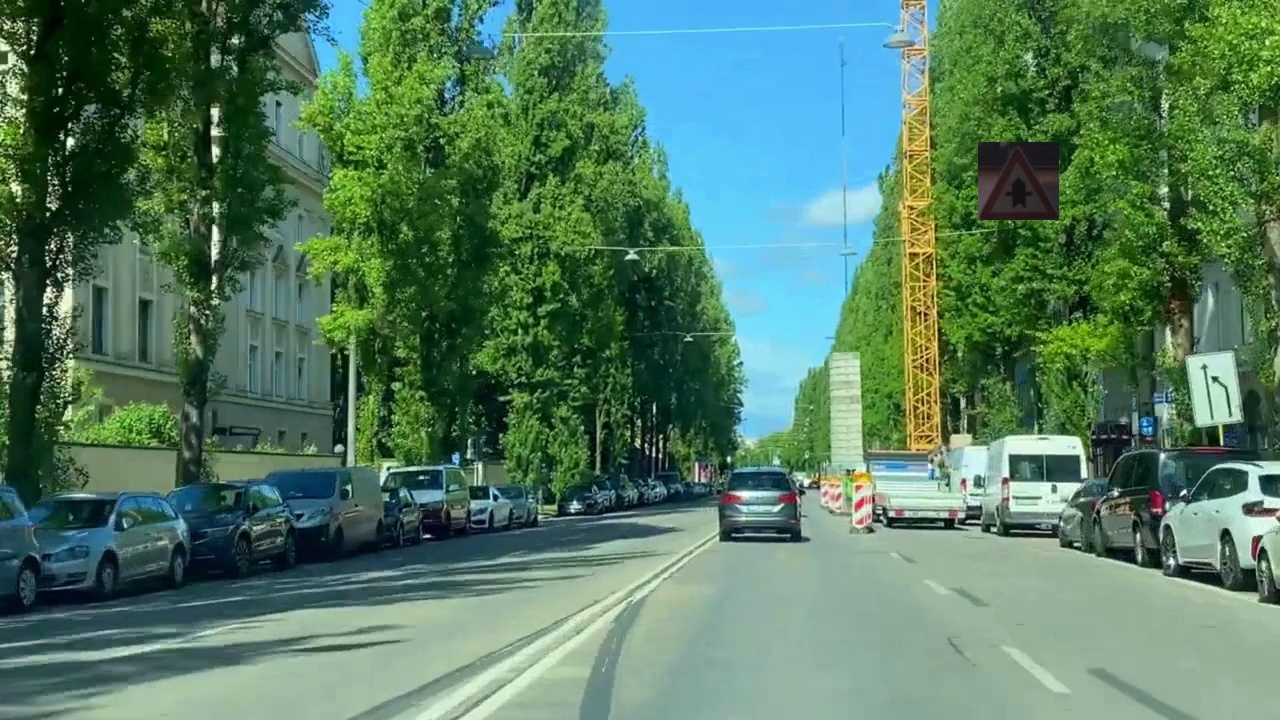Right-of-way: (978, 142, 1059, 220)
